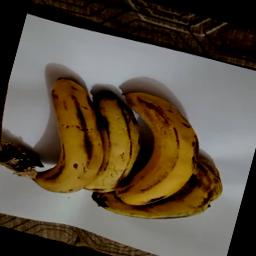Banana Unripe: (0, 63, 239, 242)
